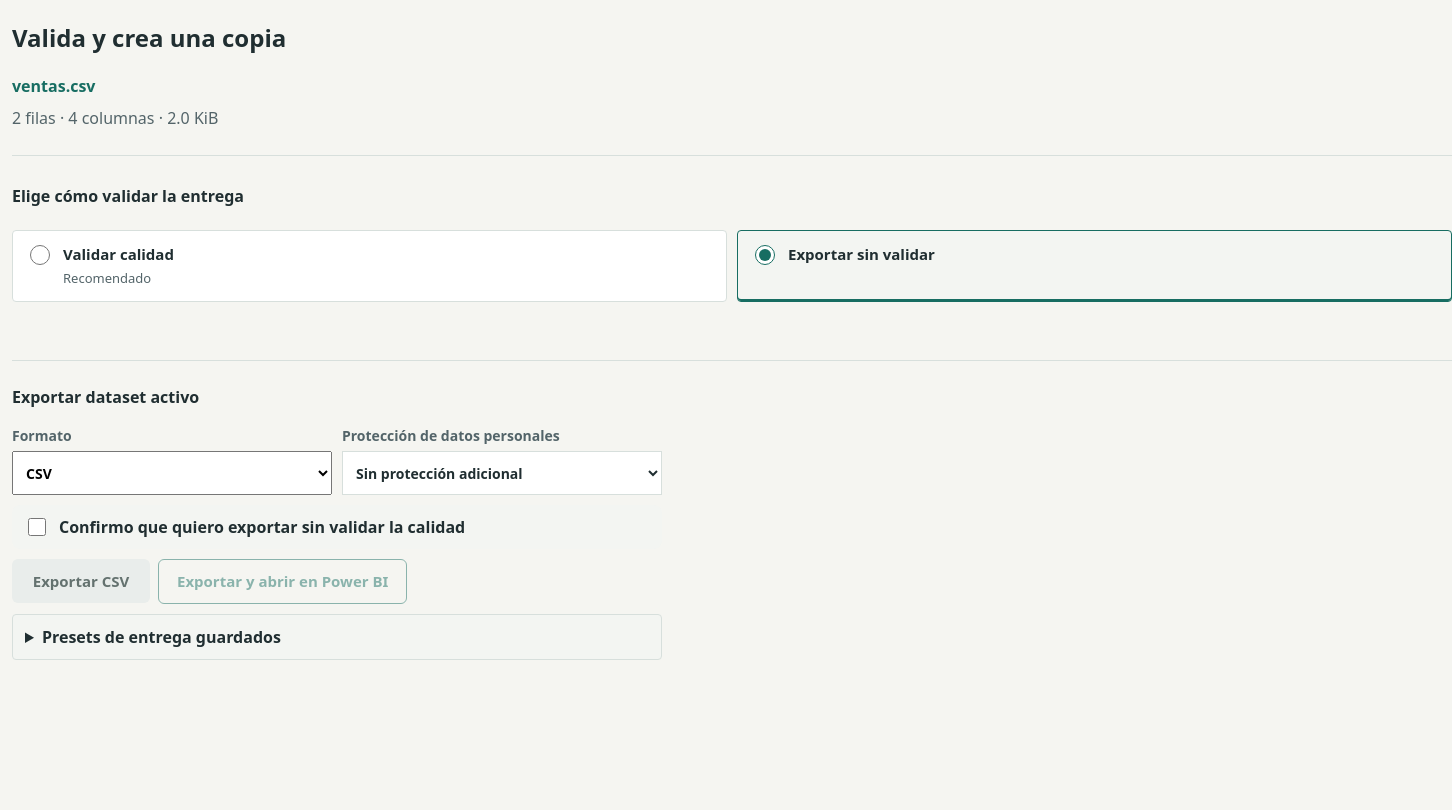
Test: límites de Excel (RV19) › avisa antes de exportar, bloquea Excel y ofrece CSV
Click the checkbox labelled "Confirmo que quiero exportar sin validar la calidad": click(37, 527) [28,518,46,536]
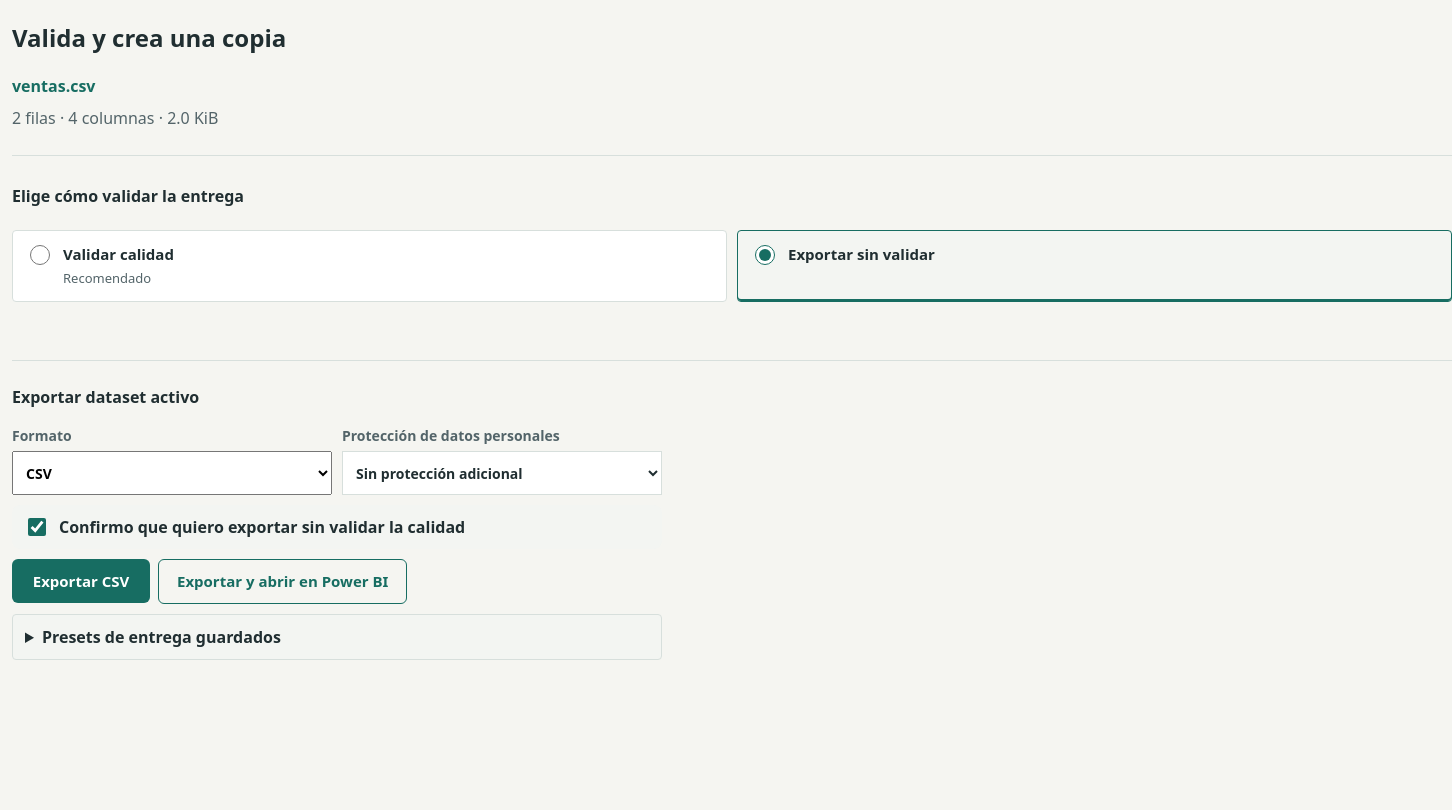
Select "Excel" in the dropdown named "Formato de exportación": (172, 473) [12,451,332,495]
(page scrolled)
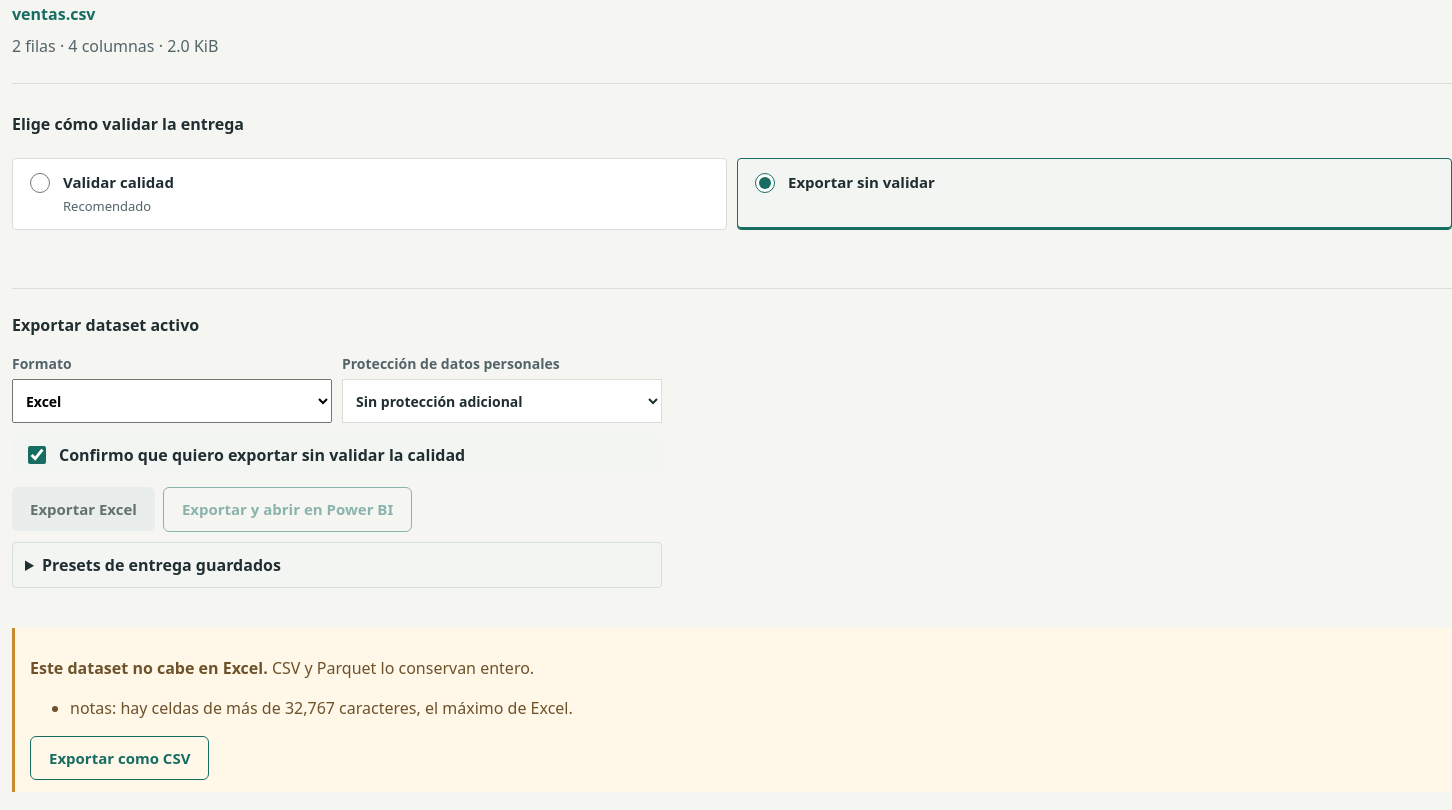
Result: the message shows "Este dataset no cabe en Excel." at [30,657,268,679]
Result: the message shows "notas: hay celdas de más de 32,767 caracteres" at [70,697,573,719]
Result: the button "Exportar Excel" is disabled at [12,488,155,532]
Click the button "Exportar como CSV": click(120, 758) [30,736,209,780]
(page scrolled)
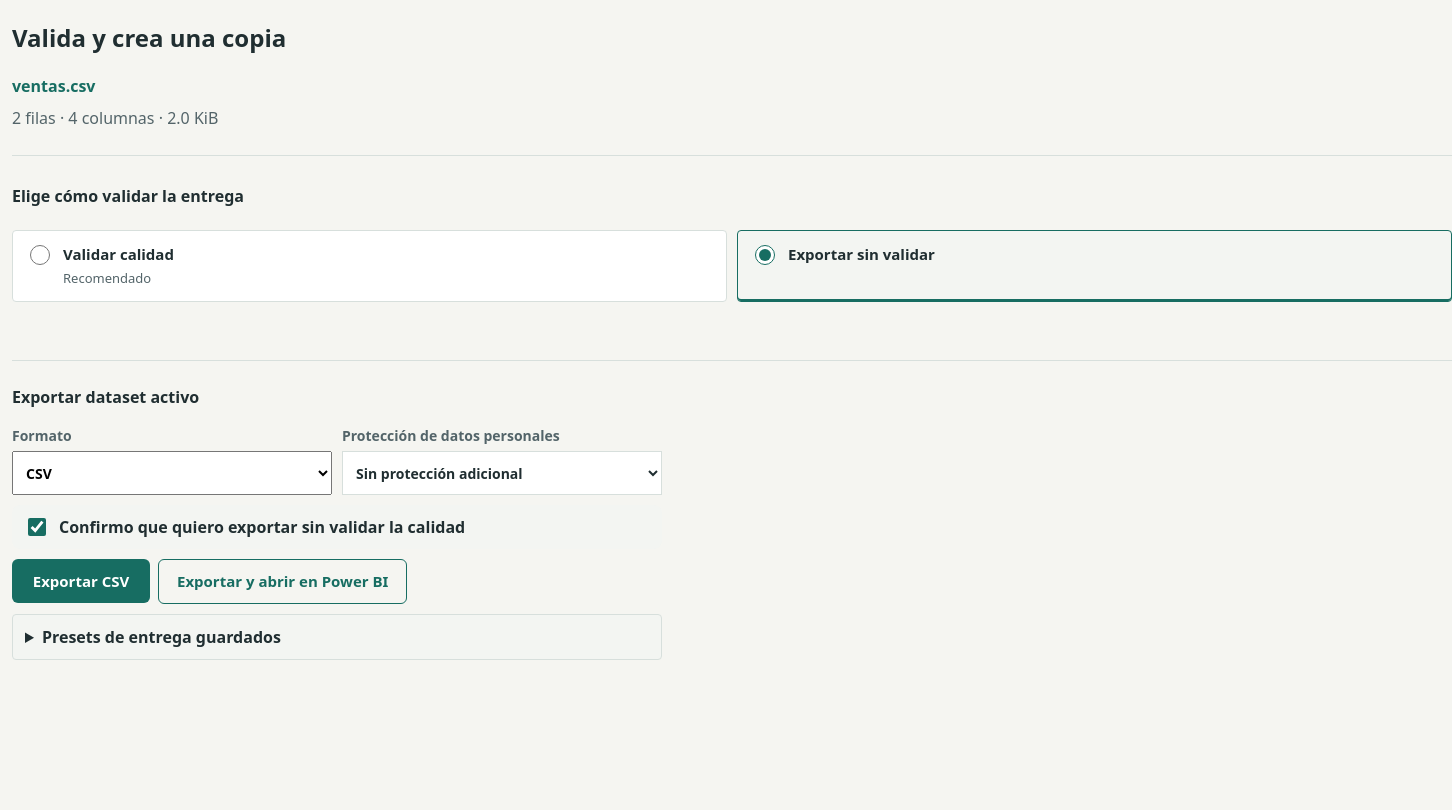
Result: the button "Exportar CSV" is enabled at [12,560,150,604]
